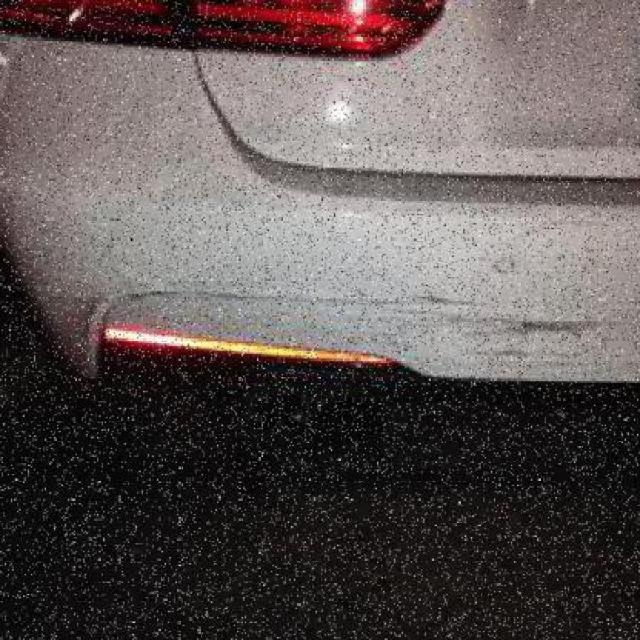rear-bumper-dent: (6, 37, 636, 460)
